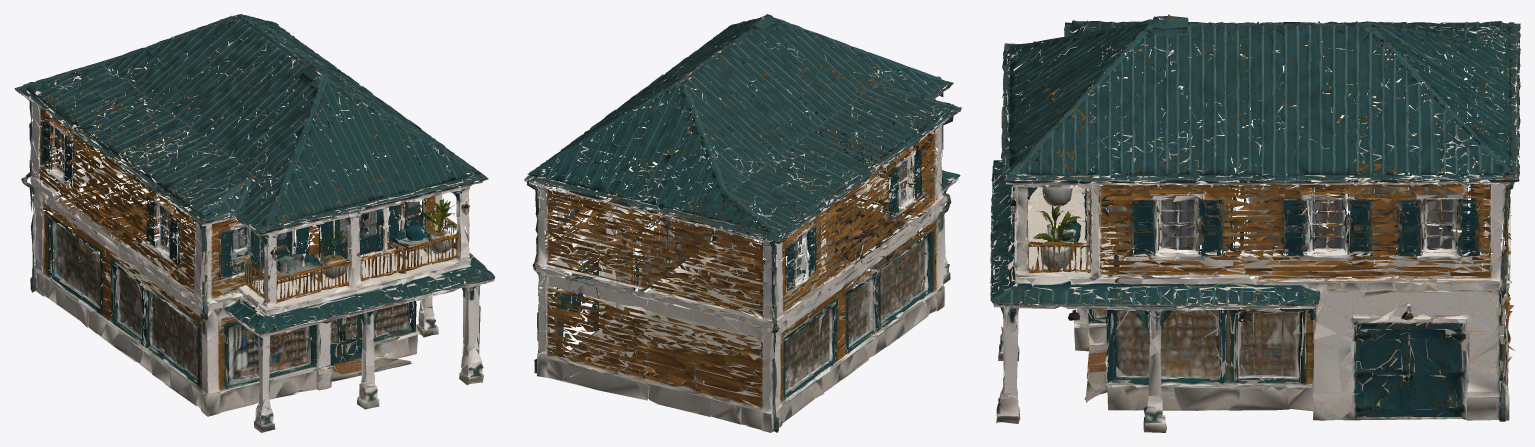
File: marina-office.glb
3 renders of one model, left to right at view 1: azimuth 30°, elevation 25°; view 2: azimuth 150°, elevation 25°; view 3: azimuth 270°, elevation 25°, orthographic. The views are drawn at different scales.
Parts seen in each view (by area): view 1: Mesh_0; view 2: Mesh_0; view 3: Mesh_0.
Boxes of the visible parts, bbox=[...] form: Mesh_0: bbox=[14, 14, 494, 432]; Mesh_0: bbox=[524, 14, 961, 432]; Mesh_0: bbox=[990, 14, 1520, 432].
Bounding box in the file's own units: 1.39 × 1.39 × 1.9.
Materials: 1 (1 with a texture image).
